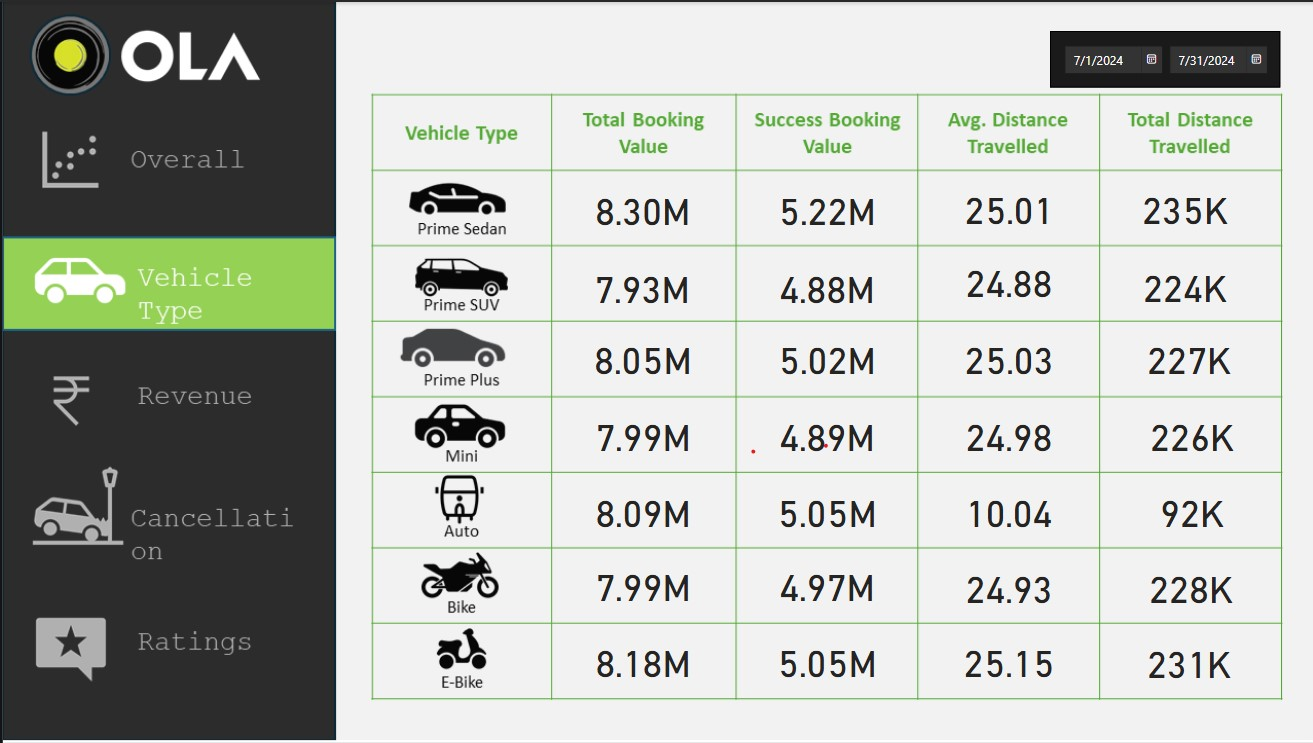

What the dashboard file says about the page in this screenshot:
{"tool":"powerbi","page":{"name":"VEHICLE_TYPE","canvas":[1280,720],"ordinal":1},"visuals":[{"type":"actionButton","box":[0.9,340.4,322.7,91.6],"z":0},{"type":"actionButton","box":[0,451.6,322.7,97.8],"z":1000},{"type":"actionButton","box":[0,580.4,322.7,97.8],"z":2000},{"type":"actionButton","box":[0.9,580.4,322.7,97.8],"z":3000},{"type":"actionButton","box":[0,107.6,322.7,97.8],"z":4000},{"type":"card","fields":{"Values":["Sum(Bookings-100000-Rows - July.Booking_Value)"]},"box":[536.9,166.2,170.7,68.4],"z":5000},{"type":"card","fields":{"Values":["Sum(Bookings-100000-Rows - July.Booking_Value)"]},"box":[535.9,242.2,171.2,69.1],"z":6000},{"type":"card","fields":{"Values":["Sum(Bookings-100000-Rows - July.Booking_Value)"]},"box":[536.9,311.2,171.2,69.1],"z":7000},{"type":"card","fields":{"Values":["Sum(Bookings-100000-Rows - July.Booking_Value)"]},"box":[536.9,386.1,171.2,69.1],"z":8000},{"type":"card","fields":{"Values":["Sum(Bookings-100000-Rows - July.Booking_Value)"]},"box":[536.9,460.1,171.2,69.1],"z":9000},{"type":"card","fields":{"Values":["Sum(Bookings-100000-Rows - July.Booking_Value)"]},"box":[536.9,532,171.2,69.1],"z":10000},{"type":"card","fields":{"Values":["Sum(Bookings-100000-Rows - July.Booking_Value)"]},"box":[536.9,606,171.2,69.1],"z":11000},{"type":"card","fields":{"Values":["Sum(Bookings-100000-Rows - July.Booking_Value)"]},"box":[715.9,166.3,171.2,69.1],"z":12000},{"type":"card","fields":{"Values":["Sum(Bookings-100000-Rows - July.Booking_Value)"]},"box":[715.9,242.2,171.2,69.1],"z":13000},{"type":"card","fields":{"Values":["Sum(Bookings-100000-Rows - July.Booking_Value)"]},"box":[715.9,311.2,171.2,69.1],"z":14000},{"type":"card","fields":{"Values":["Sum(Bookings-100000-Rows - July.Booking_Value)"]},"box":[715.9,386.1,171.2,69.1],"z":15000},{"type":"card","fields":{"Values":["Sum(Bookings-100000-Rows - July.Booking_Value)"]},"box":[715.9,460.1,171.2,69.1],"z":16000},{"type":"card","fields":{"Values":["Sum(Bookings-100000-Rows - July.Booking_Value)"]},"box":[715.9,532,171.2,69.1],"z":17000},{"type":"card","fields":{"Values":["Sum(Bookings-100000-Rows - July.Booking_Value)"]},"box":[715.9,606,171.2,69.1],"z":18000},{"type":"card","fields":{"Values":["Avg(Bookings-100000-Rows - July.Ride_Distance)"]},"box":[892.9,165.3,171.2,69.1],"z":19000},{"type":"card","fields":{"Values":["Avg(Bookings-100000-Rows - July.Ride_Distance)"]},"box":[892.9,236.4,171.2,69.1],"z":20000},{"type":"card","fields":{"Values":["Avg(Bookings-100000-Rows - July.Ride_Distance)"]},"box":[892.9,311.2,171.2,69.1],"z":21000},{"type":"card","fields":{"Values":["Avg(Bookings-100000-Rows - July.Ride_Distance)"]},"box":[892.9,386.1,171.2,69.1],"z":22000},{"type":"card","fields":{"Values":["Avg(Bookings-100000-Rows - July.Ride_Distance)"]},"box":[892.9,460.1,171.2,69.1],"z":23000},{"type":"card","fields":{"Values":["Avg(Bookings-100000-Rows - July.Ride_Distance)"]},"box":[892.9,534,171.2,69.1],"z":24000},{"type":"card","fields":{"Values":["Avg(Bookings-100000-Rows - July.Ride_Distance)"]},"box":[892.9,606,171.2,69.1],"z":25000},{"type":"card","fields":{"Values":["Sum(Bookings-100000-Rows - July.Ride_Distance)"]},"box":[1064.1,165.3,171.2,69.1],"z":26000},{"type":"card","fields":{"Values":["Sum(Bookings-100000-Rows - July.Ride_Distance)"]},"box":[1064.1,241.2,171.2,69.1],"z":27000},{"type":"card","fields":{"Values":["Sum(Bookings-100000-Rows - July.Ride_Distance)"]},"box":[1068,311.2,171.2,69.1],"z":28000},{"type":"card","fields":{"Values":["Sum(Bookings-100000-Rows - July.Ride_Distance)"]},"box":[1070.9,386.1,171.2,69.1],"z":29000},{"type":"card","fields":{"Values":["Sum(Bookings-100000-Rows - July.Ride_Distance)"]},"box":[1070.9,460.1,171.2,69.1],"z":30000},{"type":"card","fields":{"Values":["Sum(Bookings-100000-Rows - July.Ride_Distance)"]},"box":[1069.9,534,171.2,69.1],"z":31000},{"type":"card","fields":{"Values":["Sum(Bookings-100000-Rows - July.Ride_Distance)"]},"box":[1068,606.9,171.2,69.1],"z":32000},{"type":"slicer","title":"Date","fields":{"Values":["Bookings-100000-Rows - July.Date"]},"box":[1018.4,28.2,223.7,55.4],"z":33000}]}

Visuals, with their boxes on the page's 1280x720 design canvas (x1, y1, x2, y2). These are canvas units, not pixel positions in the 1313x743 screenshot, which may show the page scaled, cropped or inside an application window:
actionButton: Rect(1, 340, 324, 432)
actionButton: Rect(0, 452, 323, 549)
actionButton: Rect(0, 580, 323, 678)
actionButton: Rect(1, 580, 324, 678)
actionButton: Rect(0, 108, 323, 205)
card - Sum(Bookings-100000-Rows - July.Booking_Value): Rect(537, 166, 708, 235)
card - Sum(Bookings-100000-Rows - July.Booking_Value): Rect(536, 242, 707, 311)
card - Sum(Bookings-100000-Rows - July.Booking_Value): Rect(537, 311, 708, 380)
card - Sum(Bookings-100000-Rows - July.Booking_Value): Rect(537, 386, 708, 455)
card - Sum(Bookings-100000-Rows - July.Booking_Value): Rect(537, 460, 708, 529)
card - Sum(Bookings-100000-Rows - July.Booking_Value): Rect(537, 532, 708, 601)
card - Sum(Bookings-100000-Rows - July.Booking_Value): Rect(537, 606, 708, 675)
card - Sum(Bookings-100000-Rows - July.Booking_Value): Rect(716, 166, 887, 235)
card - Sum(Bookings-100000-Rows - July.Booking_Value): Rect(716, 242, 887, 311)
card - Sum(Bookings-100000-Rows - July.Booking_Value): Rect(716, 311, 887, 380)
card - Sum(Bookings-100000-Rows - July.Booking_Value): Rect(716, 386, 887, 455)
card - Sum(Bookings-100000-Rows - July.Booking_Value): Rect(716, 460, 887, 529)
card - Sum(Bookings-100000-Rows - July.Booking_Value): Rect(716, 532, 887, 601)
card - Sum(Bookings-100000-Rows - July.Booking_Value): Rect(716, 606, 887, 675)
card - Avg(Bookings-100000-Rows - July.Ride_Distance): Rect(893, 165, 1064, 234)
card - Avg(Bookings-100000-Rows - July.Ride_Distance): Rect(893, 236, 1064, 306)
card - Avg(Bookings-100000-Rows - July.Ride_Distance): Rect(893, 311, 1064, 380)
card - Avg(Bookings-100000-Rows - July.Ride_Distance): Rect(893, 386, 1064, 455)
card - Avg(Bookings-100000-Rows - July.Ride_Distance): Rect(893, 460, 1064, 529)
card - Avg(Bookings-100000-Rows - July.Ride_Distance): Rect(893, 534, 1064, 603)
card - Avg(Bookings-100000-Rows - July.Ride_Distance): Rect(893, 606, 1064, 675)
card - Sum(Bookings-100000-Rows - July.Ride_Distance): Rect(1064, 165, 1235, 234)
card - Sum(Bookings-100000-Rows - July.Ride_Distance): Rect(1064, 241, 1235, 310)
card - Sum(Bookings-100000-Rows - July.Ride_Distance): Rect(1068, 311, 1239, 380)
card - Sum(Bookings-100000-Rows - July.Ride_Distance): Rect(1071, 386, 1242, 455)
card - Sum(Bookings-100000-Rows - July.Ride_Distance): Rect(1071, 460, 1242, 529)
card - Sum(Bookings-100000-Rows - July.Ride_Distance): Rect(1070, 534, 1241, 603)
card - Sum(Bookings-100000-Rows - July.Ride_Distance): Rect(1068, 607, 1239, 676)
"Date" slicer: Rect(1018, 28, 1242, 84)
